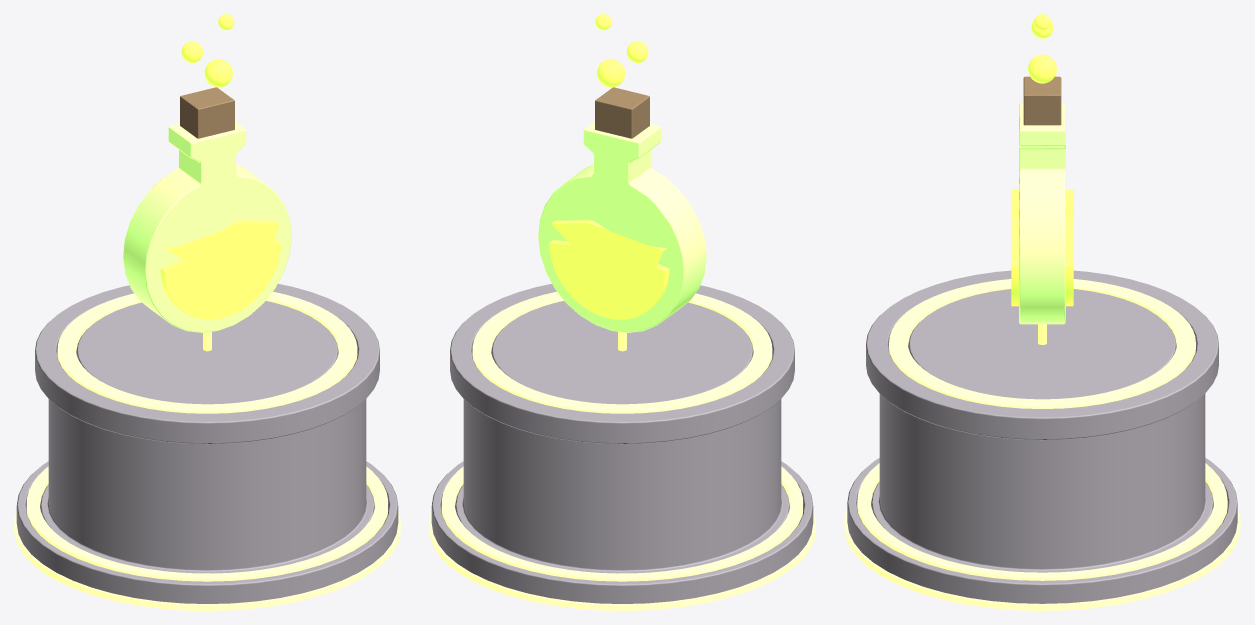
The model's file is Lobby_PED_Poison.fbx.
3 views of the same model, side by side, from view 1: azimuth 30°, elevation 25°; view 2: azimuth 150°, elevation 25°; view 3: azimuth 270°, elevation 25° (orthographic). The views are drawn at different scales.
Parts seen in each view (by area): view 1: PedestalMarble__Poison, Glyph_PoisonGlass__PoisonFlask, Glyph_PoisonLiquid__PoisonLiquid, PedNeon_Poison__Poison_TopNeon, PedNeon_Poison__Poison_BaseNeon, PedNeon_Poison__Poison_BaseNeonEdge, Glyph_PoisonCork__Poison, Glyph_PoisonLiquid__PoisonBubble_0; view 2: PedestalMarble__Poison, Glyph_PoisonGlass__PoisonFlask, Glyph_PoisonLiquid__PoisonLiquid, PedNeon_Poison__Poison_TopNeon, PedNeon_Poison__Poison_BaseNeon, PedNeon_Poison__Poison_BaseNeonEdge, Glyph_PoisonCork__Poison, Glyph_PoisonLiquid__PoisonBubble_0; view 3: PedestalMarble__Poison, Glyph_PoisonGlass__PoisonFlask, PedNeon_Poison__Poison_TopNeon, PedNeon_Poison__Poison_BaseNeon, PedNeon_Poison__Poison_BaseNeonEdge, Glyph_PoisonLiquid__PoisonLiquid, Glyph_PoisonCork__Poison, Glyph_PoisonLiquid__PoisonBubble_0.
Boxes of the visible parts, bbox=[...] form: PedestalMarble__Poison: bbox=[16, 284, 398, 603]; Glyph_PoisonGlass__PoisonFlask: bbox=[123, 121, 291, 332]; Glyph_PoisonLiquid__PoisonLiquid: bbox=[160, 220, 280, 319]; PedNeon_Poison__Poison_TopNeon: bbox=[57, 291, 357, 413]; PedNeon_Poison__Poison_BaseNeon: bbox=[27, 466, 387, 581]; PedNeon_Poison__Poison_BaseNeonEdge: bbox=[14, 511, 400, 610]; Glyph_PoisonCork__Poison: bbox=[180, 87, 234, 138]; Glyph_PoisonLiquid__PoisonBubble_0: bbox=[204, 59, 232, 87]; PedestalMarble__Poison: bbox=[431, 284, 813, 603]; Glyph_PoisonGlass__PoisonFlask: bbox=[538, 121, 706, 332]; Glyph_PoisonLiquid__PoisonLiquid: bbox=[549, 220, 669, 319]; PedNeon_Poison__Poison_TopNeon: bbox=[472, 291, 772, 413]; PedNeon_Poison__Poison_BaseNeon: bbox=[442, 466, 802, 581]; PedNeon_Poison__Poison_BaseNeonEdge: bbox=[429, 511, 815, 610]; Glyph_PoisonCork__Poison: bbox=[595, 87, 649, 138]; Glyph_PoisonLiquid__PoisonBubble_0: bbox=[597, 59, 625, 87]; PedestalMarble__Poison: bbox=[847, 270, 1237, 603]; Glyph_PoisonGlass__PoisonFlask: bbox=[1019, 102, 1065, 324]; PedNeon_Poison__Poison_TopNeon: bbox=[889, 279, 1195, 408]; PedNeon_Poison__Poison_BaseNeon: bbox=[857, 463, 1227, 580]; PedNeon_Poison__Poison_BaseNeonEdge: bbox=[844, 508, 1240, 610]; Glyph_PoisonLiquid__PoisonLiquid: bbox=[1011, 189, 1073, 306]; Glyph_PoisonCork__Poison: bbox=[1023, 76, 1061, 125]; Glyph_PoisonLiquid__PoisonBubble_0: bbox=[1028, 54, 1056, 83].
Bounding box in the file's own units: 4.26 × 6.21 × 4.26.
